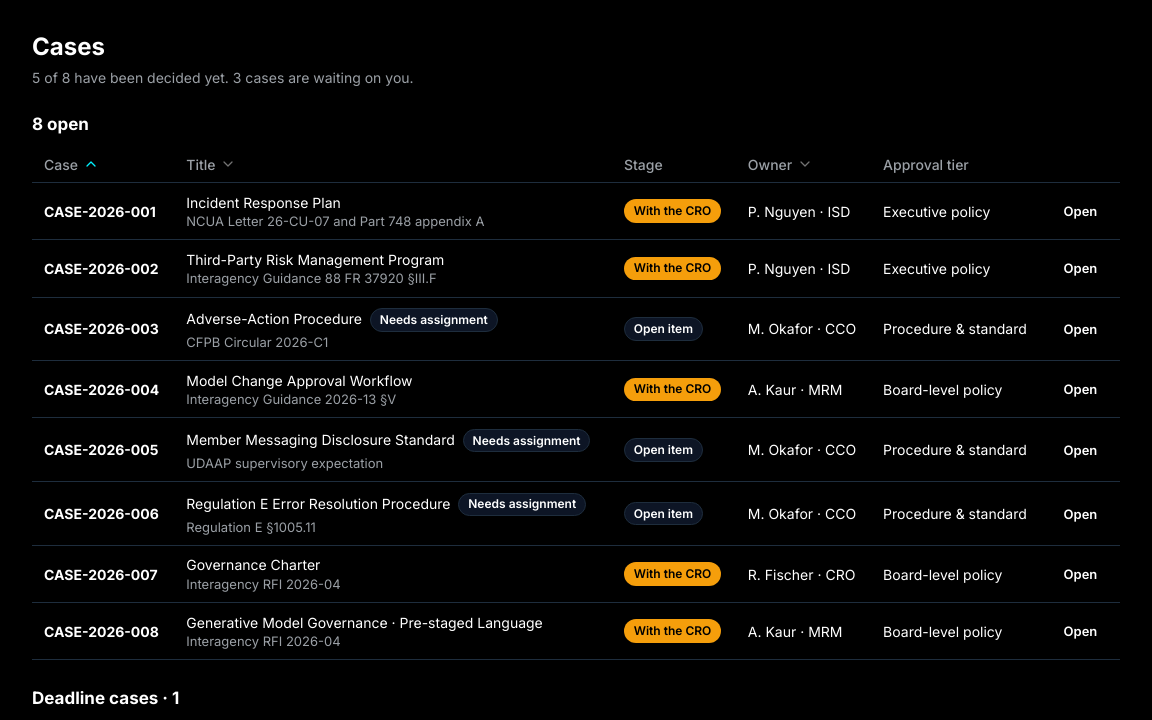
it: case-detail role gating (base caseWaitingOn/canAct 2617-2624, osCasePage 2829-2835) › the owning role (analyst) sees the accept/reject action pair (base 2830-2834)
Check: the text "CASE-2026-003" is shown, box [44,320,159,337]
Click the button "Open" in the row of "CASE-2026-003".
click(1080, 329)  # box [1054,316,1106,342]
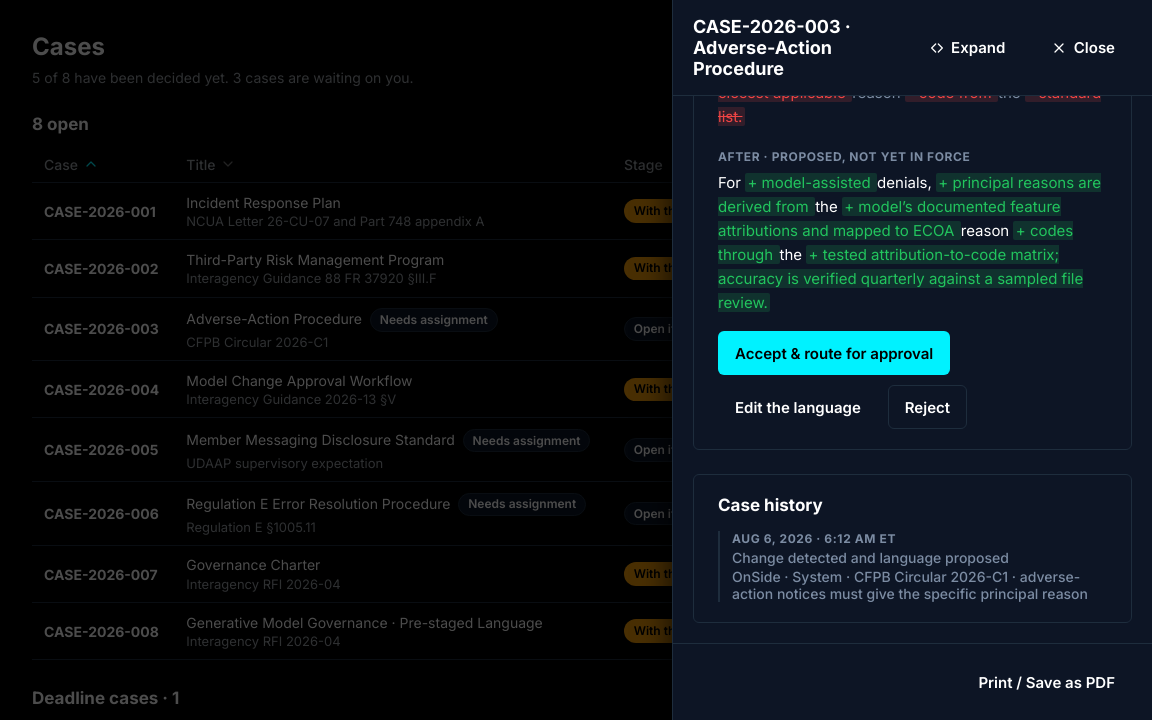
Check: the button "Accept & route for approval" is shown, box [718,332,950,376]
Check: the button "Reject" is shown, box [888,386,967,430]
Check: the button "Edit the language" is shown, box [718,386,878,430]
